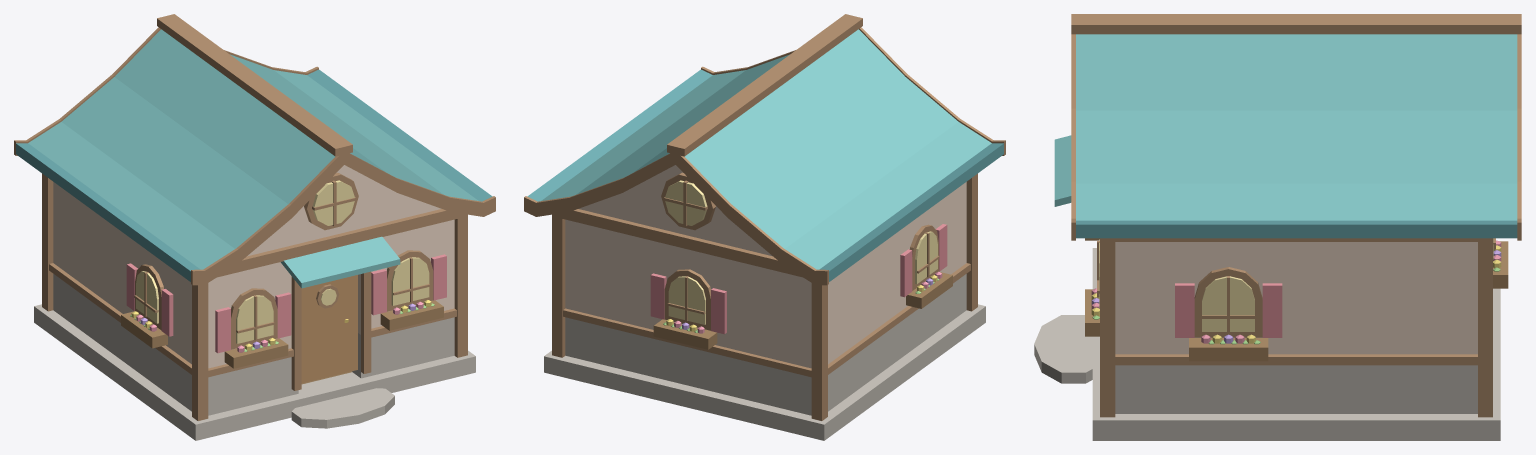
The model's file is inn_peach.glb.
The picture shows the model from 3 angles, left to right: view 1: azimuth 30°, elevation 25°; view 2: azimuth 150°, elevation 25°; view 3: azimuth 270°, elevation 25°; orthographic projection. The views are drawn at different scales.
Visible parts, largest first — view 1: Player; view 2: Player; view 3: Player.
Boxes of the visible parts, x1,y1,x2,y2 form: Player: (14,14,495,440); Player: (524,14,1005,440); Player: (1034,14,1521,440).
Bounding box in the file's own units: 5.84 × 4.9 × 6.45.
